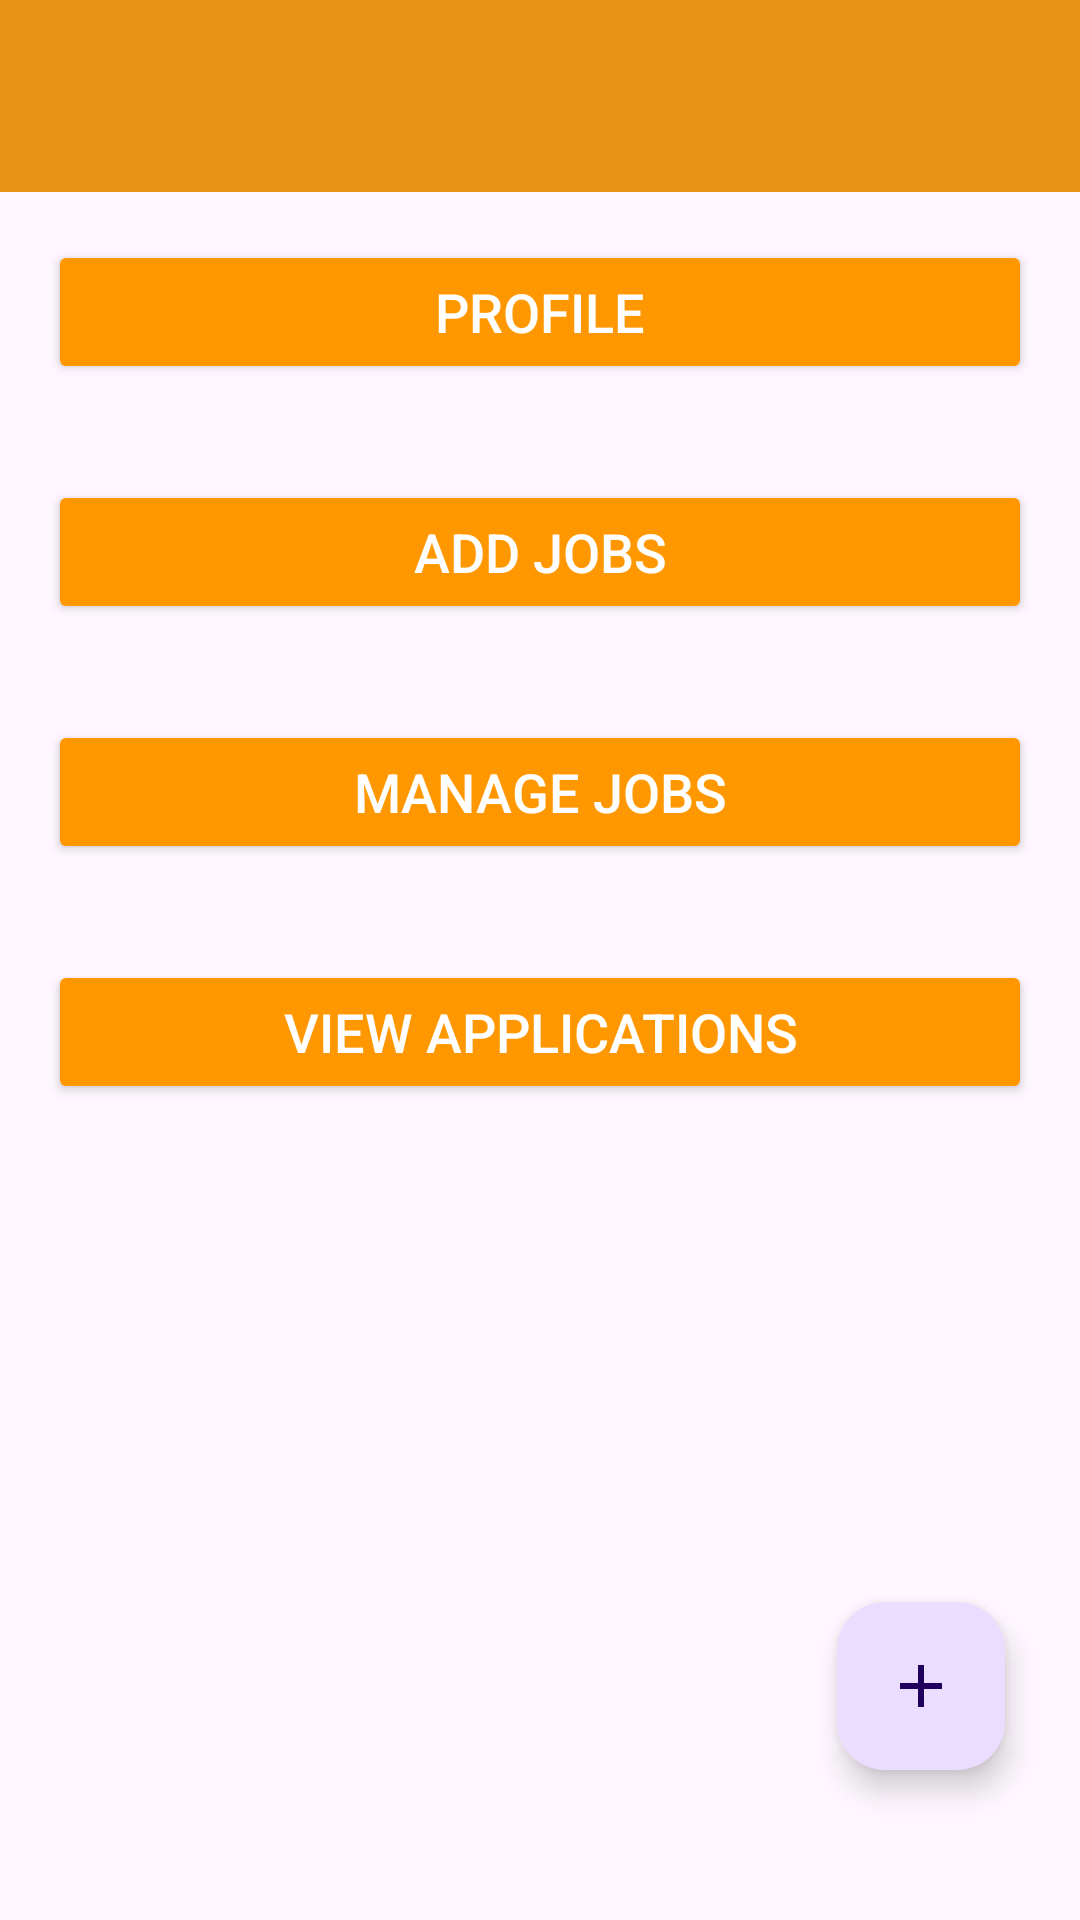

Locate icon controls on the screen. Image size 1080*1920, boxes as bbox=[x1, y1, x2, y2].
add: bbox=[837, 1602, 1005, 1770]
